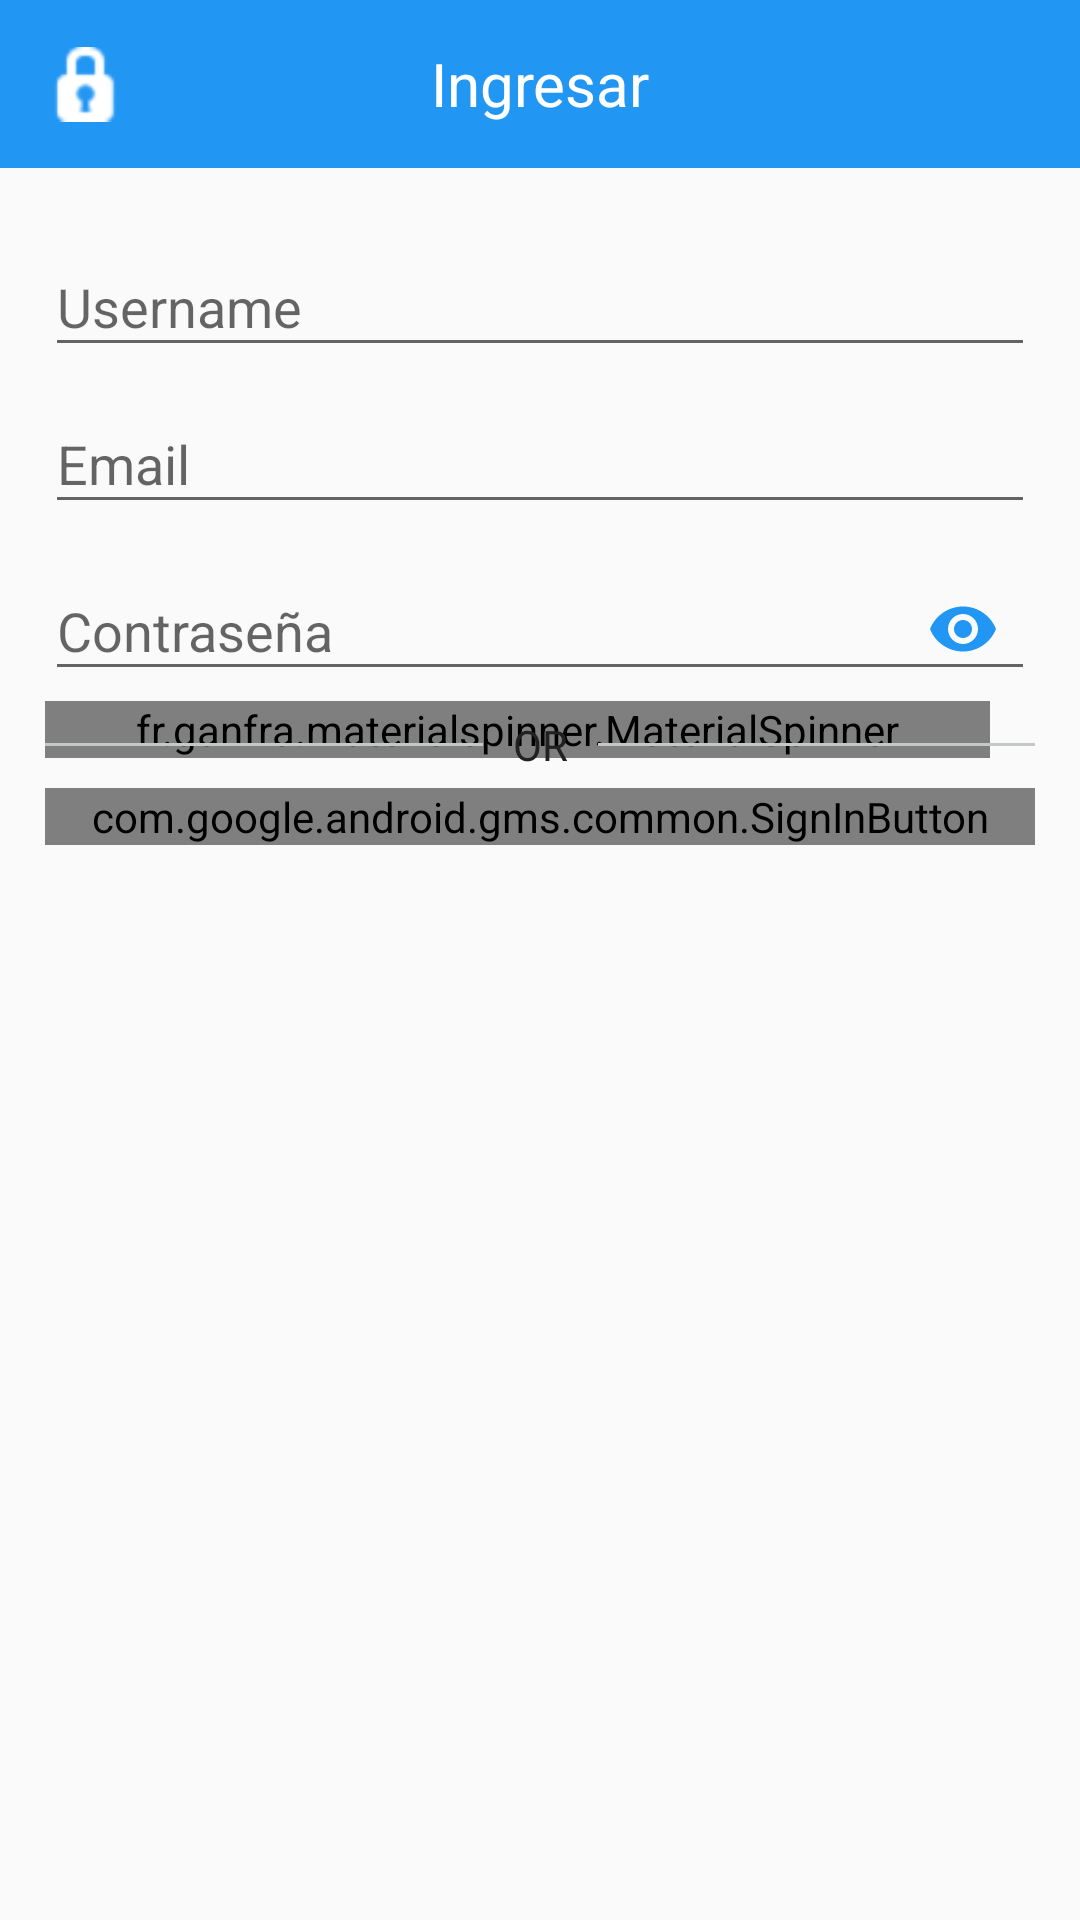

Icons on this 1080x1920 Android screen, each with its box as [x1, y1, x2, y2]:
secure: [56, 47, 115, 122]
